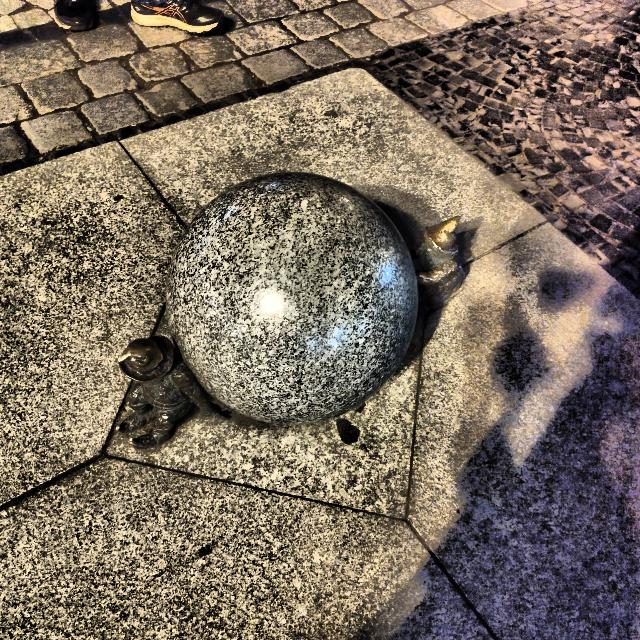Syzyfki: (106, 158, 472, 465)
